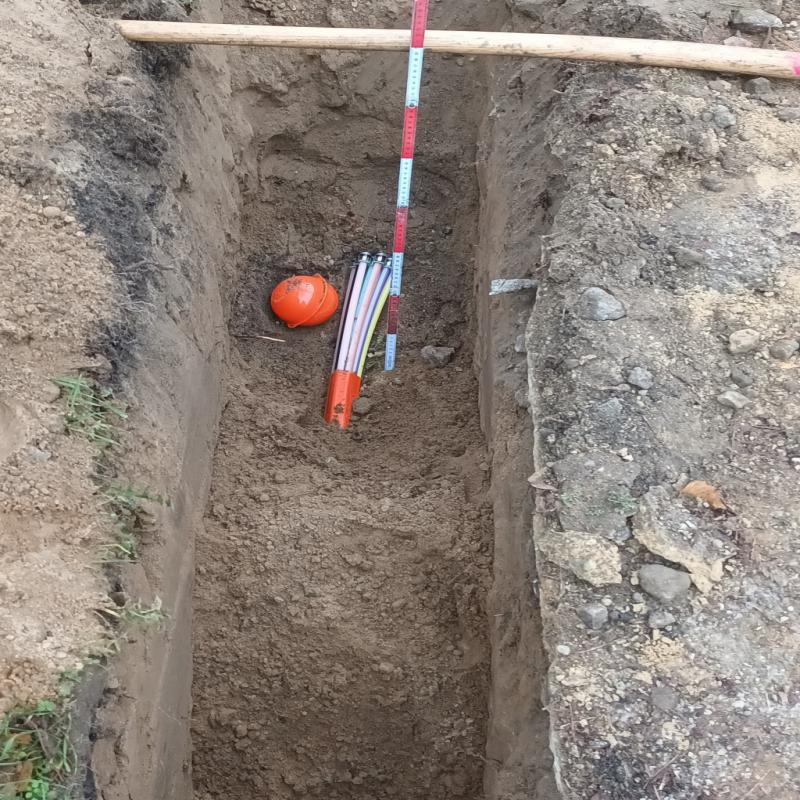Kugelmarker: (270, 274, 338, 328)
Orang-Speednetrohrchen: (326, 251, 392, 424)
